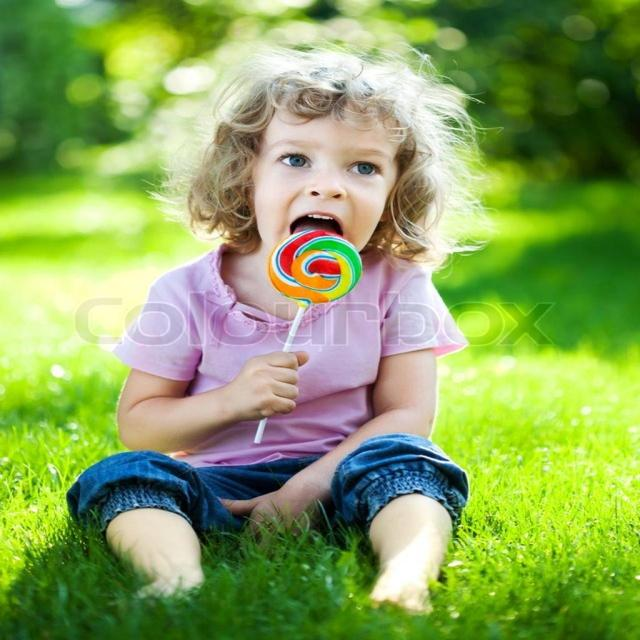Face: (244, 109, 408, 266)
